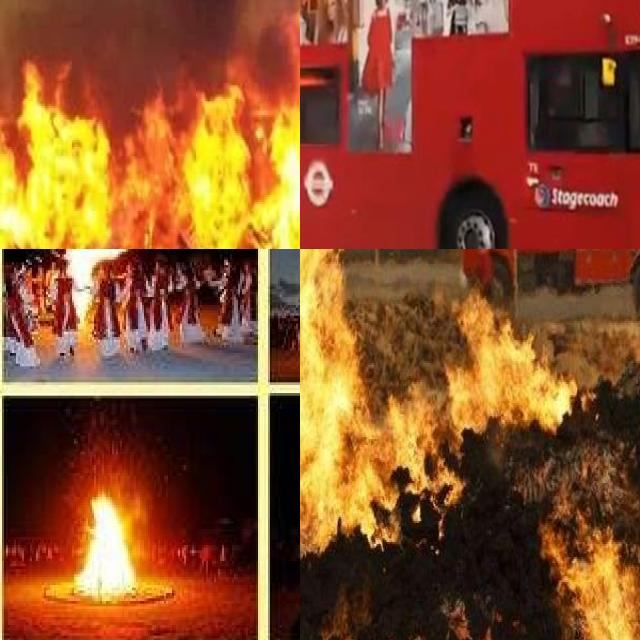fire: (300, 249, 640, 640), (0, 19, 300, 249), (66, 486, 144, 598), (56, 249, 138, 294)
smoke: (0, 0, 300, 60)
